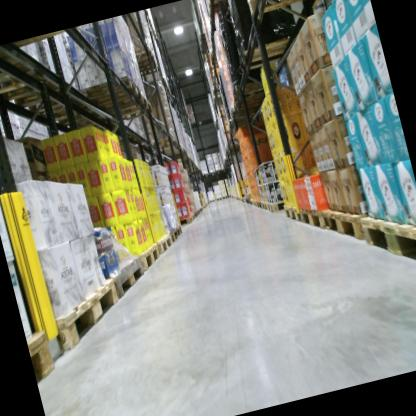pallet: (0, 38, 292, 216), (39, 273, 130, 353), (359, 204, 416, 282), (321, 193, 381, 254), (93, 251, 150, 303), (233, 29, 299, 71), (81, 76, 145, 116), (101, 89, 156, 128), (25, 325, 60, 381), (247, 0, 335, 21), (229, 73, 278, 99), (298, 204, 332, 239), (130, 240, 163, 275), (230, 90, 267, 111), (128, 44, 159, 67), (150, 132, 180, 154), (153, 230, 175, 256), (137, 60, 165, 80), (281, 200, 301, 224), (166, 222, 185, 244), (206, 0, 232, 11), (175, 215, 193, 226), (261, 198, 269, 212), (256, 200, 264, 211), (253, 198, 259, 209)
